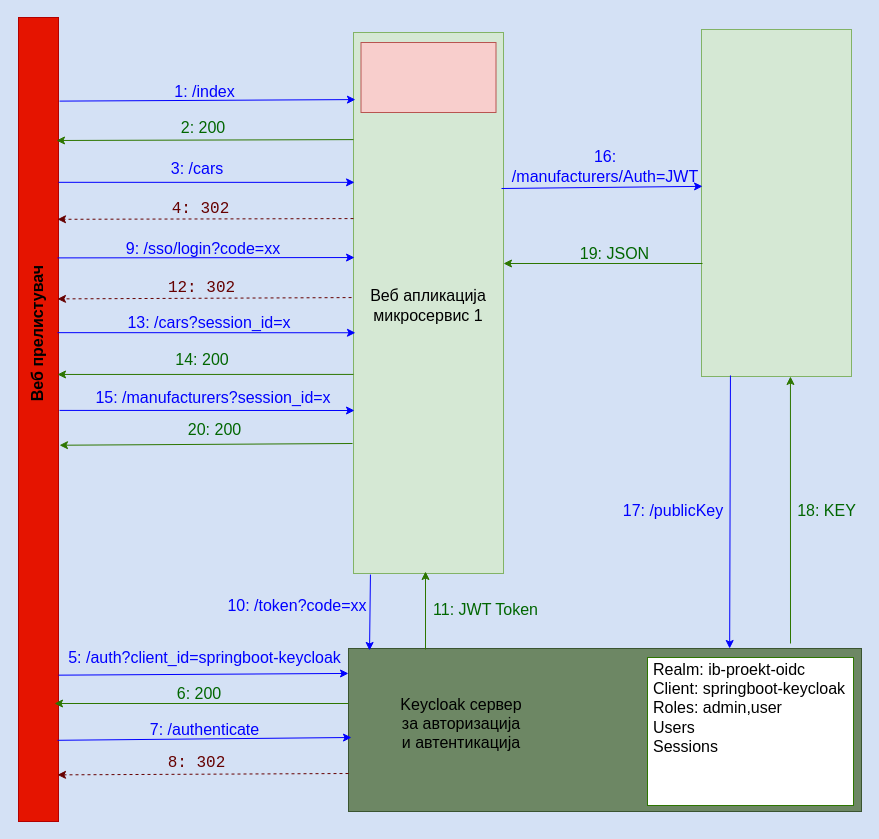
Image size: 879x839. Some labels were removed from this diagram. The shapes that lost their labels are listed below. From the top down, each one's centre as x and y in pixels, then its label:
At point 428,77: "Keycloak adapter & Security client".
At point 776,202: "Веб апликација микросервис 2".
